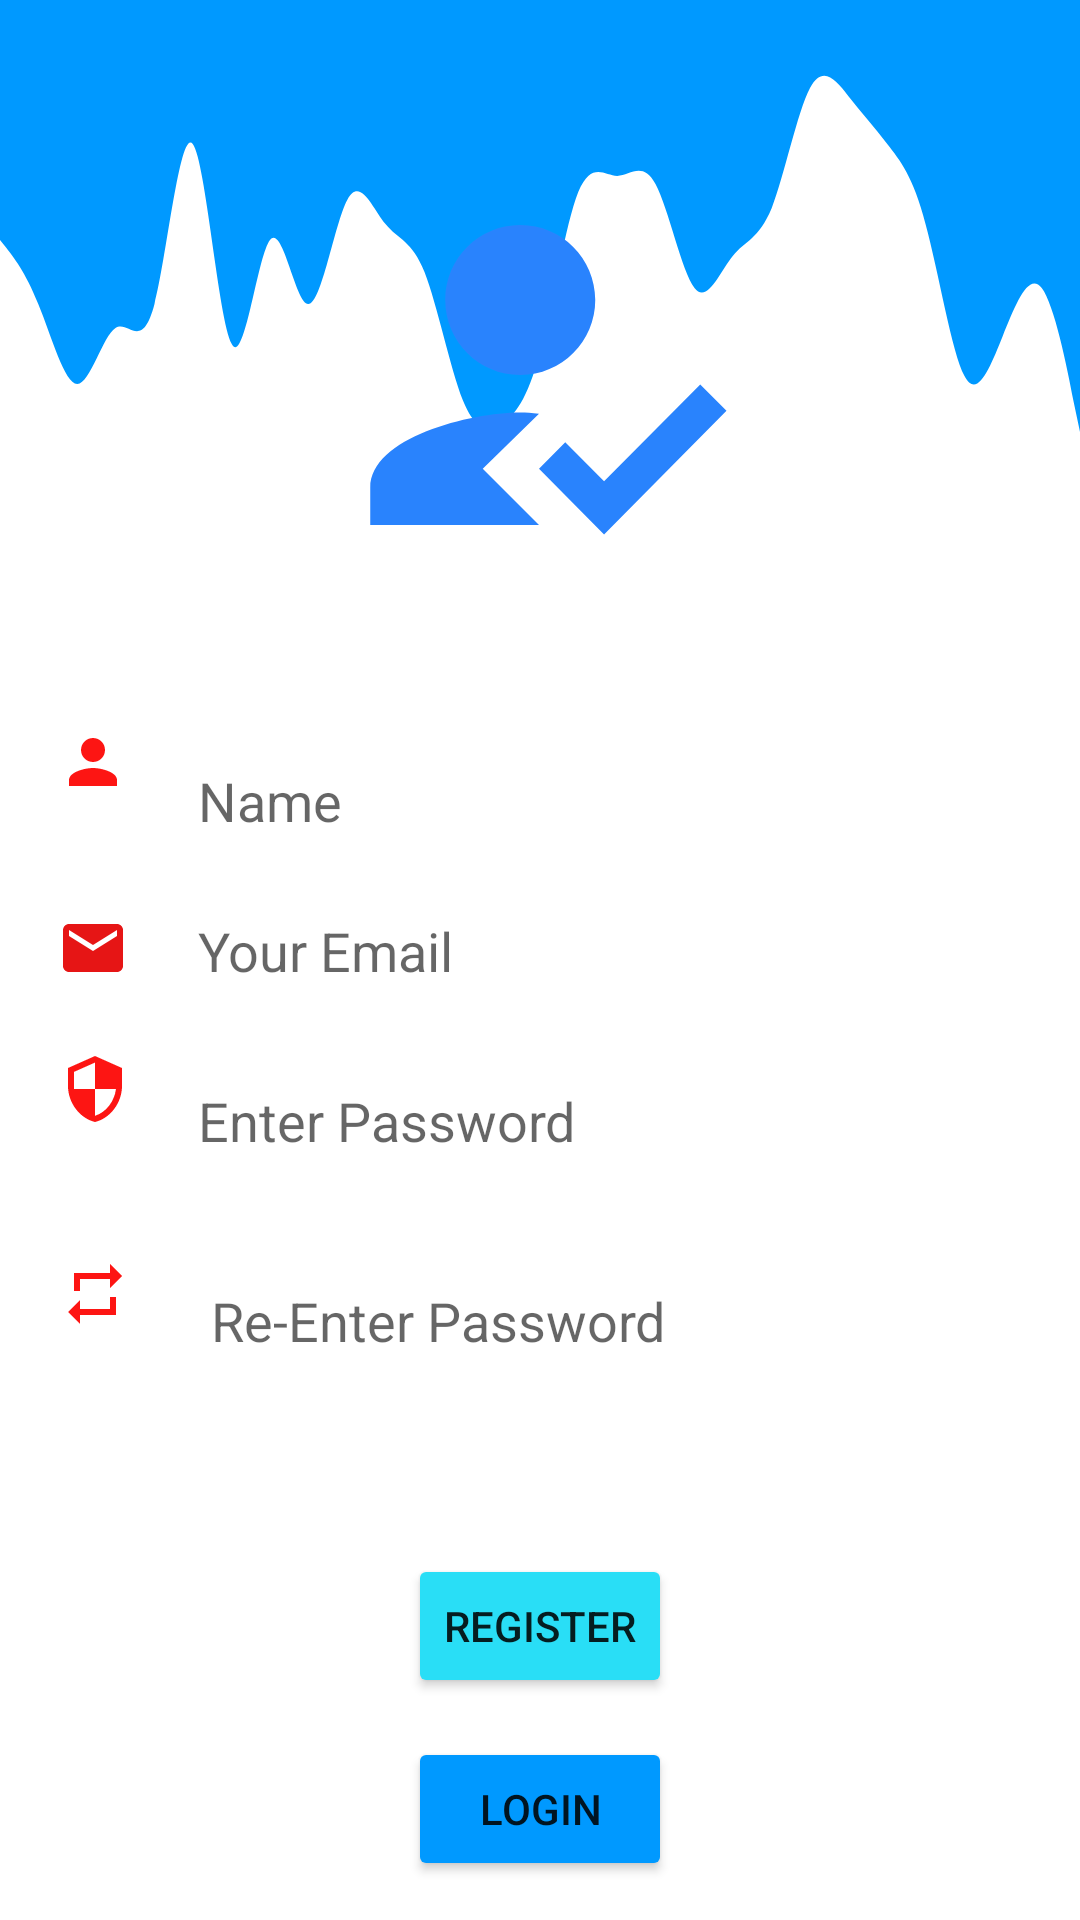

Locate icon controls on the screen. Image size 1080px×1920px, boxes as bbox=(x1, y1, x2, y2).
person: bbox=(69, 738, 117, 786)
repeat: bbox=(68, 1264, 122, 1324)
security: bbox=(68, 1056, 122, 1122)
